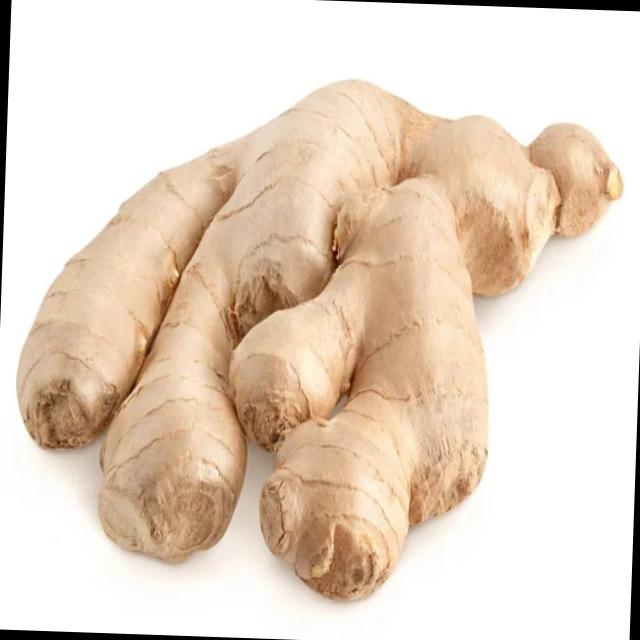ginger: (10, 59, 630, 620)
